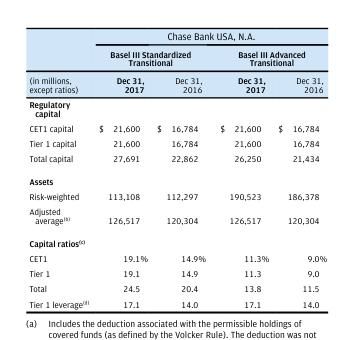table: (28, 28, 326, 308)
table column: (28, 28, 93, 308), (151, 28, 212, 308), (212, 28, 272, 308), (93, 28, 151, 308), (272, 28, 326, 308)
table column header: (28, 28, 326, 96)
table projected row header: (28, 96, 326, 120), (28, 169, 326, 188), (28, 231, 326, 250)
table row: (28, 203, 326, 231), (28, 44, 326, 71), (28, 71, 326, 96), (28, 96, 326, 120), (28, 150, 326, 169), (28, 169, 326, 188), (28, 231, 326, 250), (28, 28, 326, 44), (28, 120, 326, 135), (28, 135, 326, 150), (28, 188, 326, 203), (28, 250, 326, 265), (28, 265, 326, 280), (28, 280, 326, 295), (28, 295, 326, 308)
table spanning cell: (28, 28, 93, 96), (93, 28, 326, 44), (93, 44, 212, 71), (212, 44, 326, 71)
